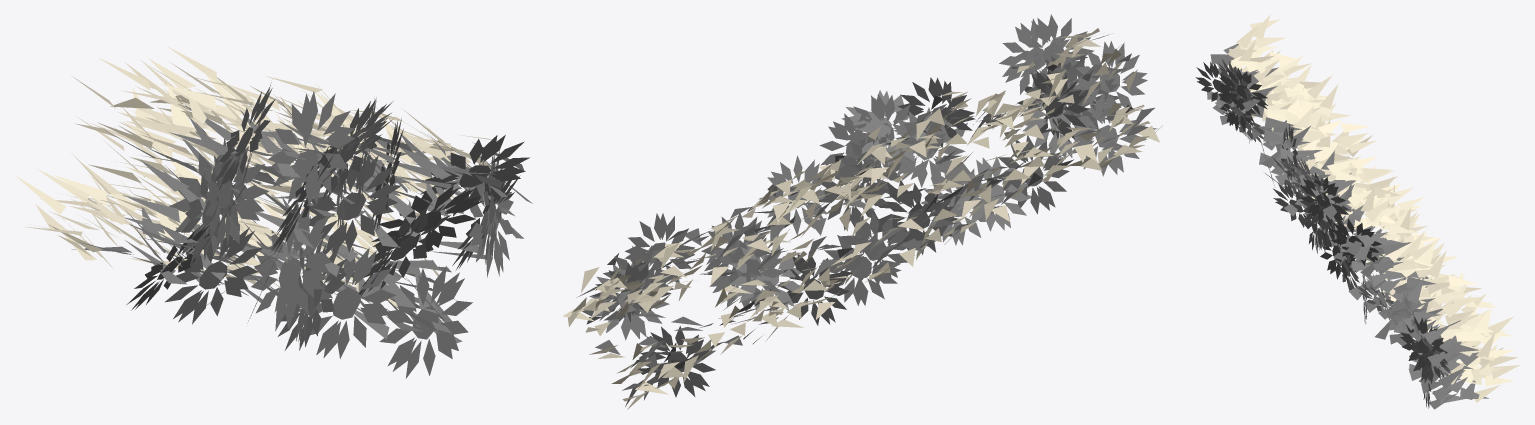
Rendered from Flowers window N300814.fbx.
3 views of the same model, side by side, from view 1: azimuth 30°, elevation 25°; view 2: azimuth 150°, elevation 25°; view 3: azimuth 270°, elevation 25° (orthographic). The views are drawn at different scales.
Visible parts, largest first — view 1: object 2, Layer:0, Mesh02, Mesh01; view 2: Layer:0, Mesh02, object 2, Mesh01; view 3: Mesh02, Mesh01, object 2, Layer:0.
Boxes of the visible parts, x1,y1,x2,y2 form: object 2: (132,87,532,378); Layer:0: (124,82,529,350); Mesh02: (15,58,514,326); Mesh01: (71,46,491,276); Layer:0: (589,18,1146,354); Mesh02: (572,36,1162,409); object 2: (586,14,1154,397); Mesh01: (563,28,1144,359); Mesh02: (1216,14,1519,403); Mesh01: (1225,23,1518,384); object 2: (1195,54,1465,409); Layer:0: (1217,67,1467,392).
Bounding box in the file's own units: 868 × 674 × 719.
